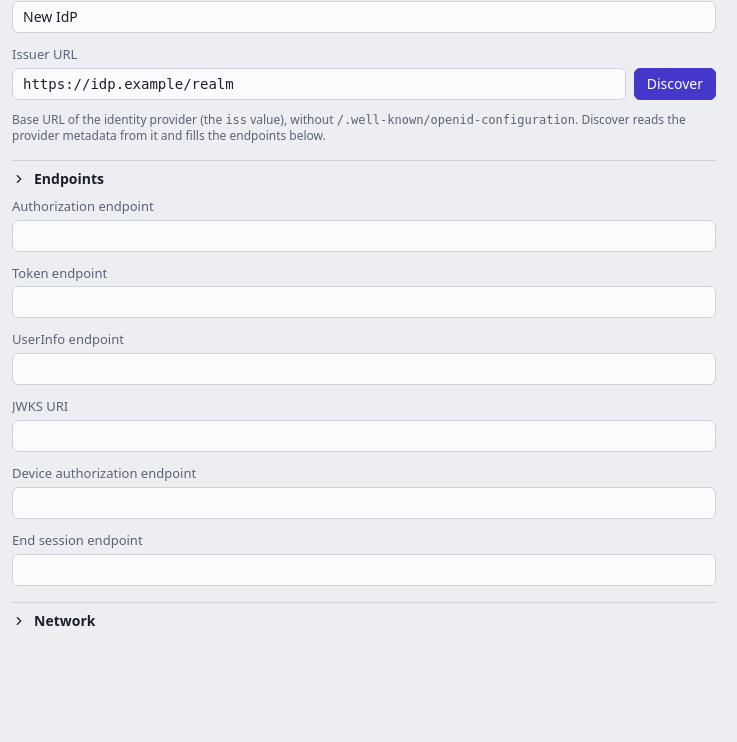
it: IdpForm › REQ-UI-004 skip-TLS toggle shows the danger badge and updates settings
Click the button "Network" at (65, 620), box [12,603,716,639]
(page scrolled)
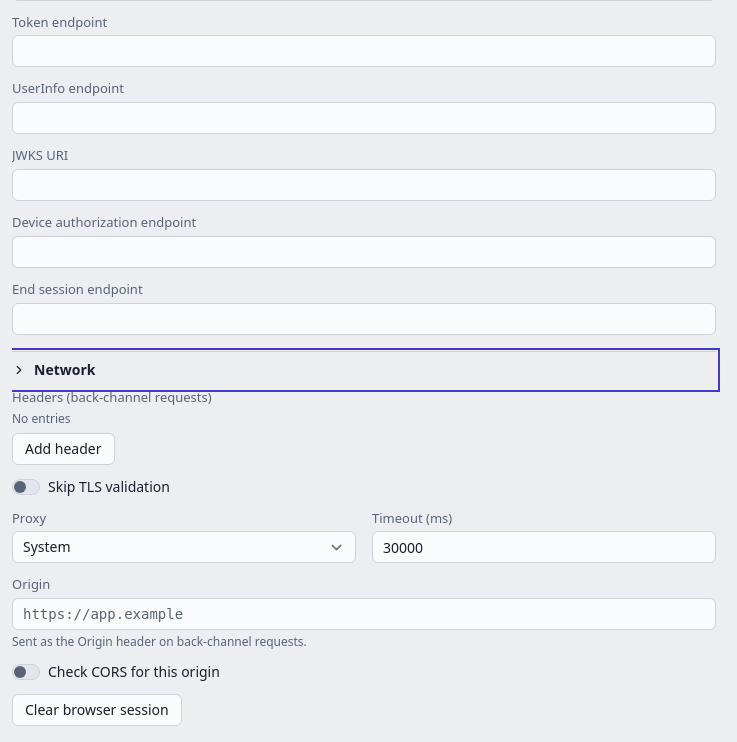
Click the switch labelled "Skip TLS validation" at (91, 487), box [12,477,170,497]
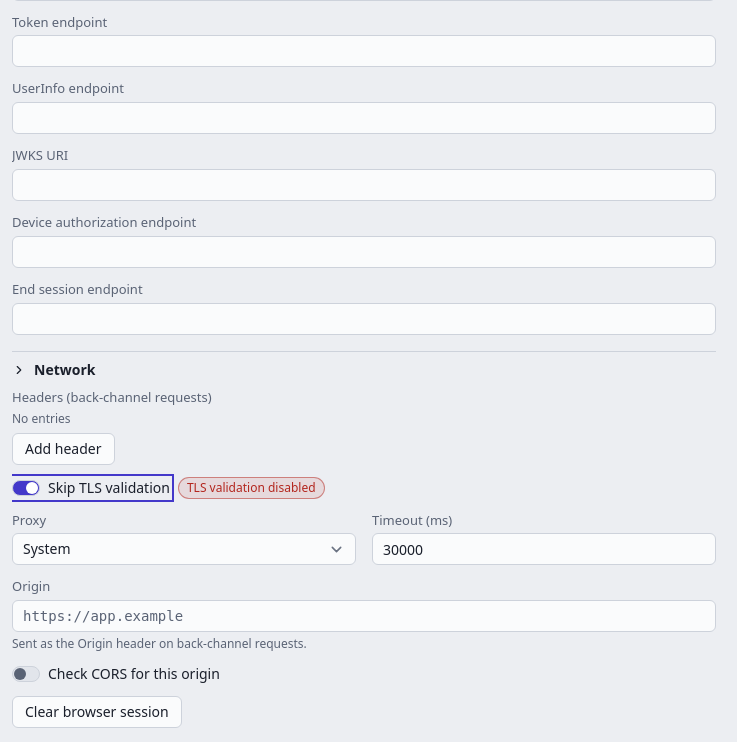
expect the text "TLS validation disabled" is shown: met, box [178,477,324,499]
